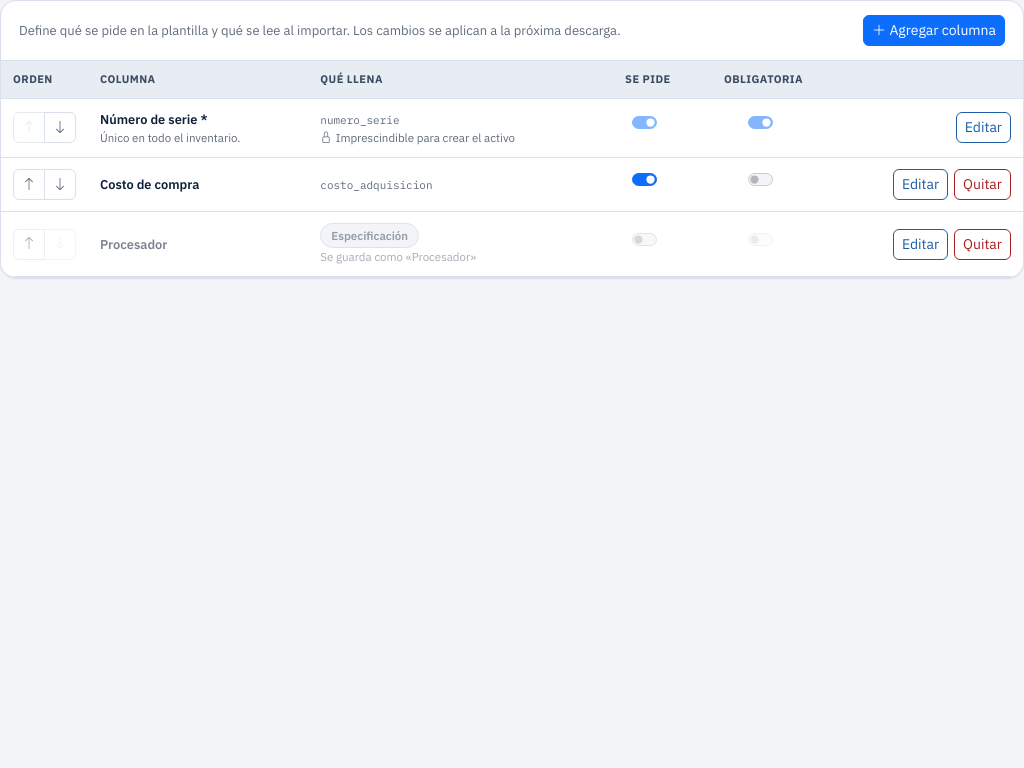
Test case: Agregar una columna › sin campos libres lo dice y sugiere la salida
Click the button "Agregar columna": (934, 30) [863,15,1005,46]
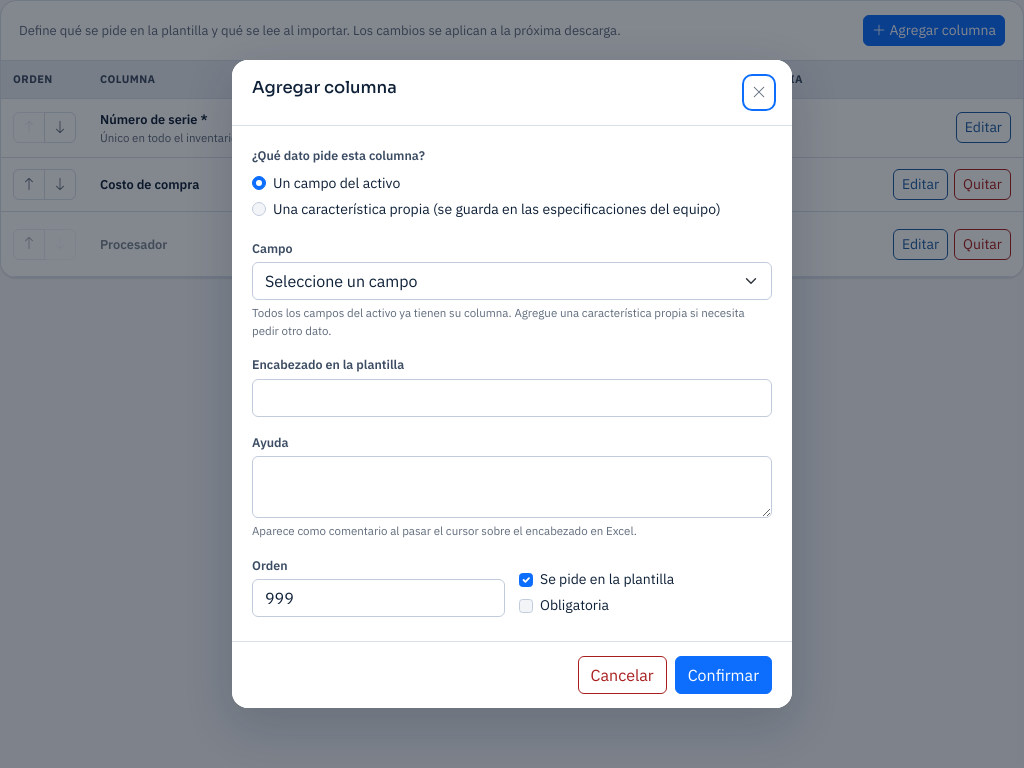
Check: the text "Agregue una característica propia" is shown, box [252,305,745,338]
